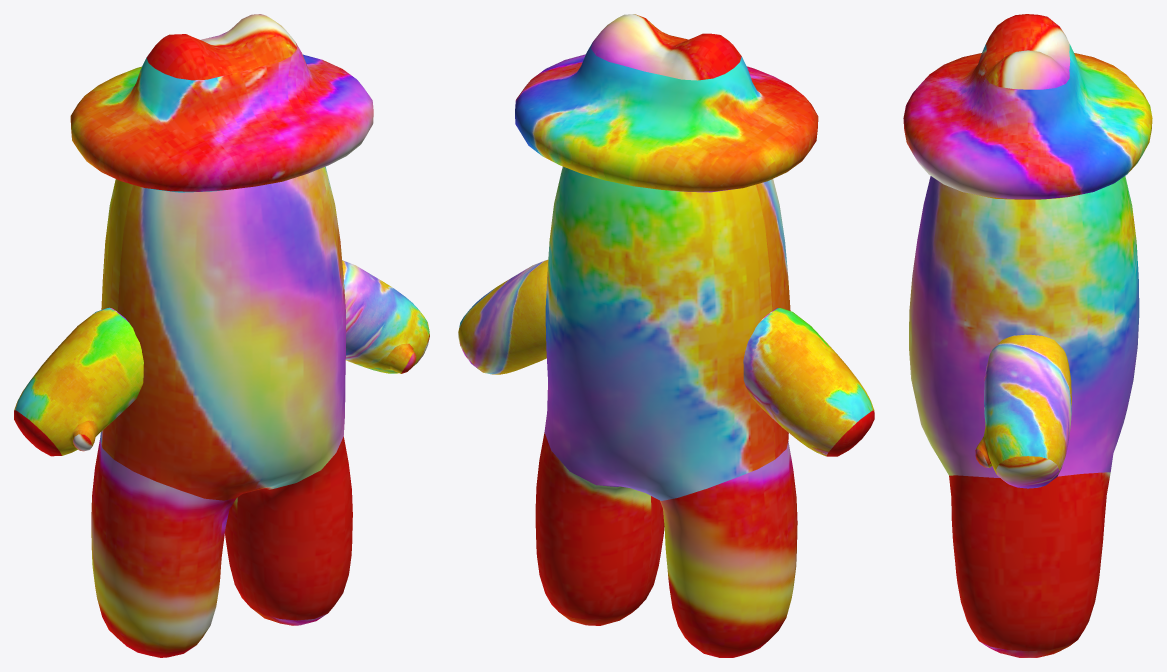
The model's file is Bubble buddy.obj.
3 renders of one model, left to right at view 1: azimuth 30°, elevation 25°; view 2: azimuth 150°, elevation 25°; view 3: azimuth 270°, elevation 25°, orthographic. The views are drawn at different scales.
Parts seen in each view (by area): view 1: AnyConv.com__bubble_buddy; view 2: AnyConv.com__bubble_buddy; view 3: AnyConv.com__bubble_buddy.
Boxes of the visible parts, <box> form: AnyConv.com__bubble_buddy: <box>14,14,429,657</box>; AnyConv.com__bubble_buddy: <box>458,14,874,657</box>; AnyConv.com__bubble_buddy: <box>903,14,1152,657</box>.
Bounding box in the file's own units: 12.93 × 18.56 × 7.12.
